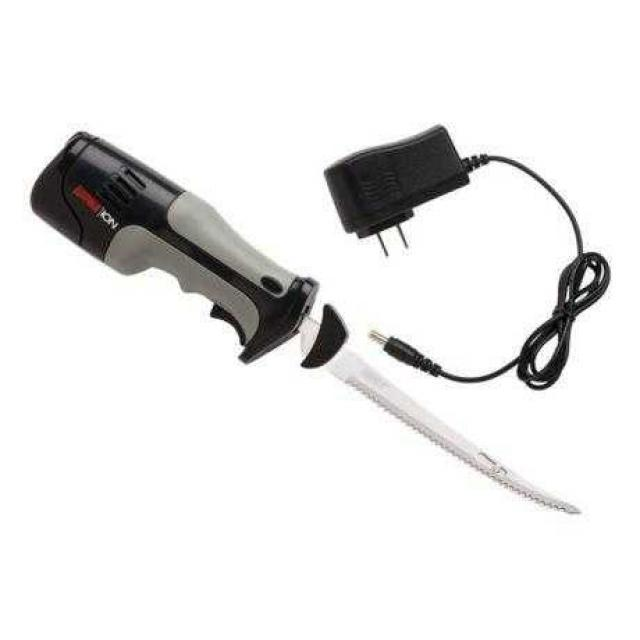knife: (23, 120, 601, 523)
